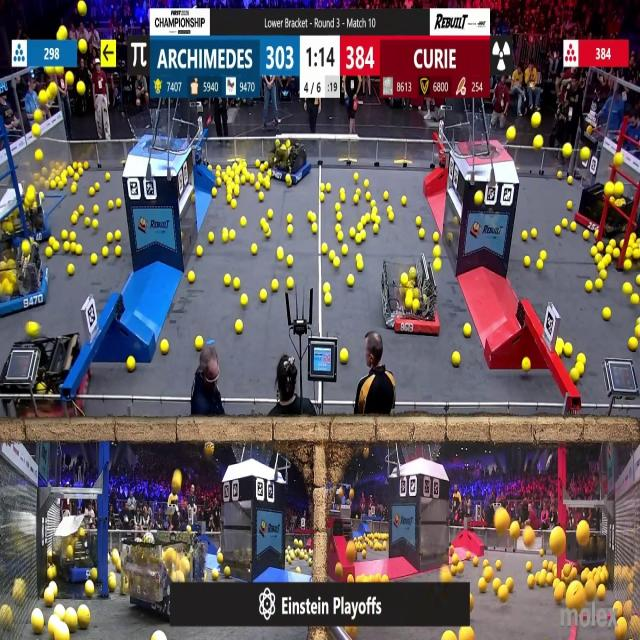ball_airborne: (550, 528, 566, 554), (495, 510, 508, 533), (575, 522, 588, 545), (172, 470, 182, 490), (535, 114, 544, 130), (58, 27, 68, 41), (615, 154, 624, 168), (473, 190, 482, 204), (506, 128, 515, 142), (77, 1, 86, 15), (512, 523, 521, 537), (564, 143, 572, 158), (48, 84, 56, 98), (533, 137, 542, 149), (76, 84, 85, 96), (66, 72, 74, 85), (39, 91, 47, 104), (78, 40, 86, 53), (582, 147, 590, 159), (35, 149, 43, 160), (33, 125, 40, 137), (35, 110, 42, 122), (170, 494, 176, 502)
ball_ground: (32, 612, 45, 636), (77, 609, 89, 630), (617, 619, 628, 640), (66, 612, 78, 630), (43, 590, 54, 607), (555, 587, 565, 604), (524, 528, 534, 544), (28, 321, 39, 335), (465, 628, 476, 640), (87, 582, 95, 598), (498, 588, 507, 602), (442, 570, 452, 582), (341, 349, 349, 364), (58, 630, 70, 640), (629, 338, 638, 351), (537, 572, 546, 585), (46, 567, 55, 580), (162, 341, 170, 355), (128, 356, 136, 370), (523, 357, 531, 371), (236, 320, 244, 334), (194, 338, 202, 352), (598, 586, 606, 600), (564, 344, 572, 358), (56, 606, 65, 618), (453, 352, 460, 367), (602, 308, 610, 321), (624, 283, 633, 294), (444, 631, 455, 640), (480, 580, 487, 594), (109, 578, 116, 592), (336, 563, 343, 577), (557, 342, 564, 356), (616, 602, 623, 616), (464, 323, 471, 336), (354, 234, 362, 245), (587, 280, 594, 292), (187, 272, 194, 284), (223, 275, 230, 287), (212, 568, 219, 580), (277, 248, 284, 260), (545, 572, 552, 584), (571, 368, 578, 380), (604, 254, 612, 264), (284, 176, 292, 186), (286, 278, 293, 289), (92, 253, 99, 264), (107, 233, 114, 244), (68, 266, 75, 277), (434, 261, 441, 272), (324, 293, 331, 304), (286, 255, 293, 266), (223, 566, 230, 577), (625, 261, 632, 272), (309, 211, 316, 222), (493, 577, 500, 588), (69, 243, 76, 254), (576, 364, 583, 375), (235, 278, 241, 290), (348, 275, 354, 287), (272, 280, 278, 292), (260, 290, 266, 302), (528, 575, 534, 587), (93, 568, 99, 580), (506, 577, 512, 589), (381, 573, 389, 582), (234, 184, 240, 196), (348, 230, 356, 239), (433, 247, 440, 257), (342, 245, 349, 255), (64, 242, 71, 252), (356, 262, 363, 272), (323, 282, 330, 292), (230, 231, 237, 241), (54, 239, 61, 249), (485, 567, 492, 577), (577, 353, 584, 363), (114, 246, 120, 257), (252, 244, 258, 255), (524, 256, 530, 267), (76, 244, 82, 255), (84, 216, 90, 227), (222, 232, 228, 243), (335, 257, 341, 268), (457, 562, 463, 573), (356, 574, 364, 582), (536, 262, 543, 271), (69, 233, 76, 242), (93, 206, 100, 215), (259, 218, 266, 227), (420, 230, 426, 240), (242, 294, 248, 304), (432, 234, 438, 244), (556, 224, 562, 234), (416, 216, 422, 226), (523, 232, 529, 242), (570, 221, 576, 231), (72, 214, 78, 224), (632, 294, 638, 304), (596, 280, 602, 290), (195, 246, 201, 256), (312, 222, 318, 232), (321, 244, 327, 254), (108, 201, 114, 211), (371, 223, 377, 233), (540, 250, 546, 260), (526, 562, 532, 572), (71, 183, 77, 193), (93, 218, 99, 228), (62, 232, 68, 242), (341, 190, 347, 200), (452, 555, 458, 565), (328, 250, 334, 260), (595, 240, 601, 250), (615, 248, 621, 258), (348, 574, 355, 582), (363, 192, 370, 200), (225, 184, 232, 192), (224, 177, 231, 185), (225, 168, 232, 176), (209, 233, 214, 244), (532, 230, 538, 239), (584, 232, 590, 241), (114, 232, 120, 241), (566, 202, 572, 211), (388, 213, 394, 222), (338, 233, 344, 242), (600, 271, 606, 280), (286, 214, 292, 223), (562, 219, 568, 228), (361, 215, 367, 224), (370, 213, 376, 222), (235, 176, 241, 185), (264, 222, 270, 231), (249, 175, 255, 184), (262, 162, 268, 171), (269, 210, 274, 220), (103, 247, 108, 257), (287, 224, 292, 234), (384, 190, 389, 200), (258, 190, 263, 200), (635, 326, 640, 336), (78, 206, 83, 216), (496, 560, 501, 570), (46, 248, 51, 258), (592, 246, 597, 256), (266, 180, 271, 190), (118, 561, 123, 571), (400, 198, 406, 206), (336, 223, 342, 231), (216, 178, 222, 186), (336, 204, 342, 212), (595, 254, 601, 262), (90, 187, 96, 195), (484, 560, 490, 568), (356, 254, 362, 262), (356, 223, 362, 231), (557, 172, 563, 180), (598, 264, 604, 272), (212, 187, 217, 196), (338, 213, 343, 222), (226, 193, 231, 202), (232, 200, 237, 209), (218, 554, 223, 563), (49, 238, 54, 247), (328, 186, 333, 195), (255, 161, 260, 170), (542, 561, 547, 570), (627, 248, 632, 257), (375, 216, 381, 223), (363, 180, 369, 187), (256, 175, 262, 182), (242, 216, 246, 226), (267, 232, 272, 240), (472, 558, 477, 566), (96, 182, 101, 190), (74, 174, 79, 182), (631, 234, 636, 242), (388, 206, 393, 214), (636, 275, 640, 285), (634, 250, 639, 258), (215, 169, 220, 177), (621, 241, 626, 249), (150, 634, 156, 640), (353, 174, 358, 181), (241, 177, 246, 184), (295, 567, 300, 574), (78, 169, 83, 176), (355, 187, 360, 194), (116, 200, 120, 208), (106, 174, 110, 182), (320, 192, 324, 200), (255, 182, 259, 190), (354, 194, 358, 202), (568, 176, 572, 184), (84, 163, 88, 171), (320, 183, 324, 191), (370, 200, 374, 208), (449, 234, 453, 242), (539, 551, 544, 557), (466, 553, 470, 560)
goal: (460, 119, 515, 158), (128, 116, 186, 151)
robot_blue: (118, 532, 206, 618), (0, 249, 48, 317), (56, 530, 99, 584), (21, 188, 61, 244), (268, 139, 310, 186)
robot_red: (6, 333, 89, 418), (384, 268, 440, 334), (577, 175, 605, 229)
